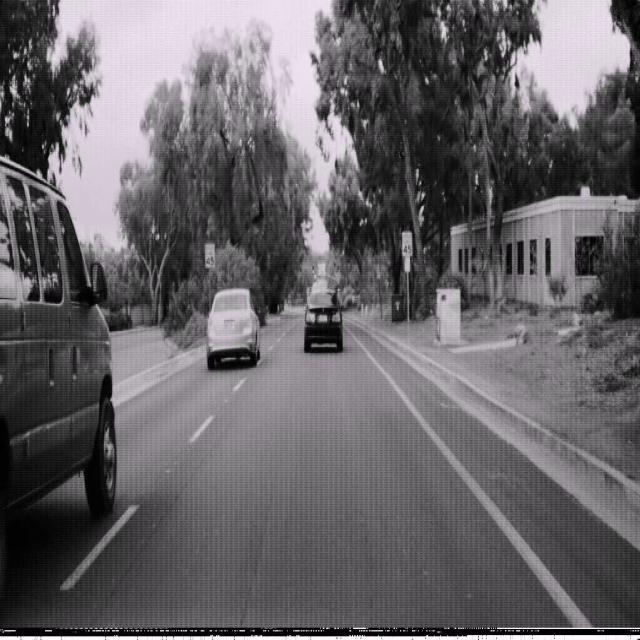speedLimit45: (204, 242, 215, 268), (402, 230, 412, 258)
